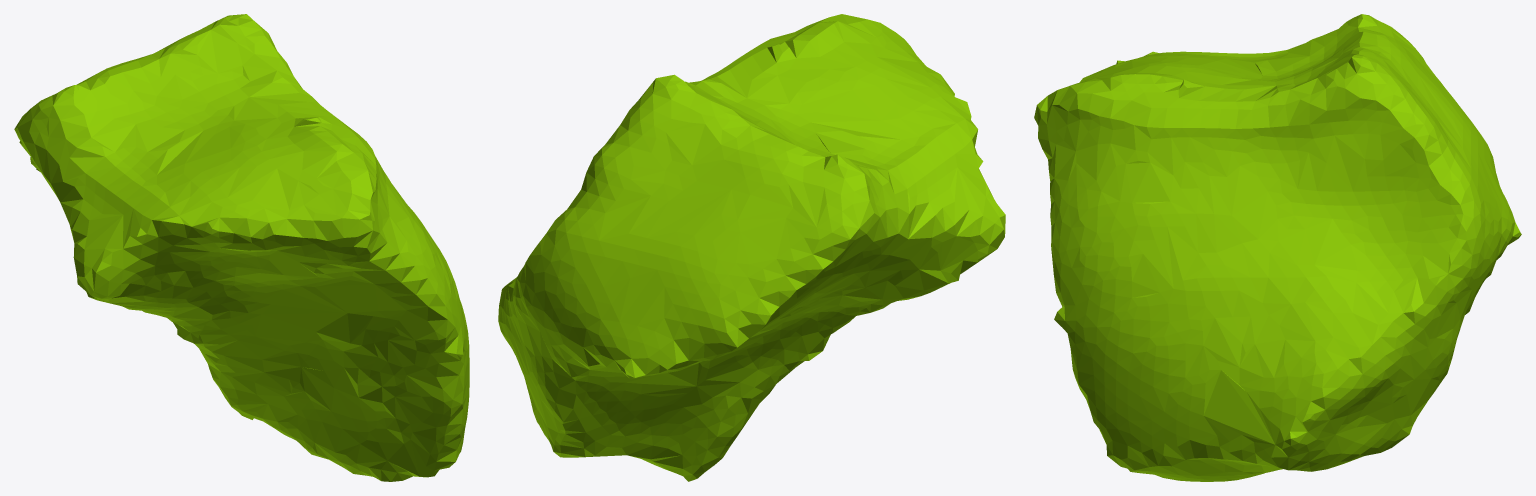
Rendered from Model_102_RH__Orbital_proisocortex_(OPro).obj.
3 renders of one model, left to right at view 1: azimuth 30°, elevation 25°; view 2: azimuth 150°, elevation 25°; view 3: azimuth 270°, elevation 25°, orthographic. The views are drawn at different scales.
Size of the model in its own units: 2.57 by 2.46 by 2.72.
